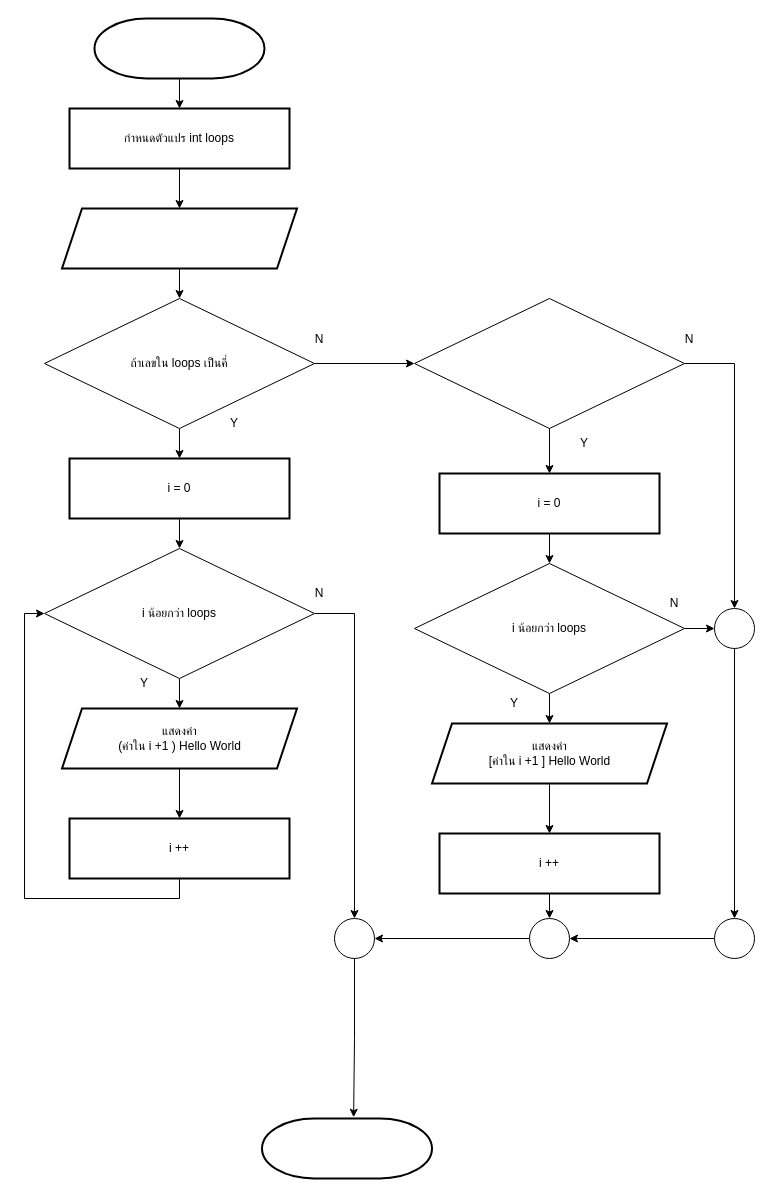
Image size: 772x1196. Some labels were removed from this diagram. The centre of each missing label's shape, as x and y in pixels:
"จบ" goes at point 346,1148.
"ถ้าเลขใน loops เป็นคู่" goes at point 549,363.
"รับค่า loops" goes at point 179,238.
"เริ่ม" goes at point 179,48.
